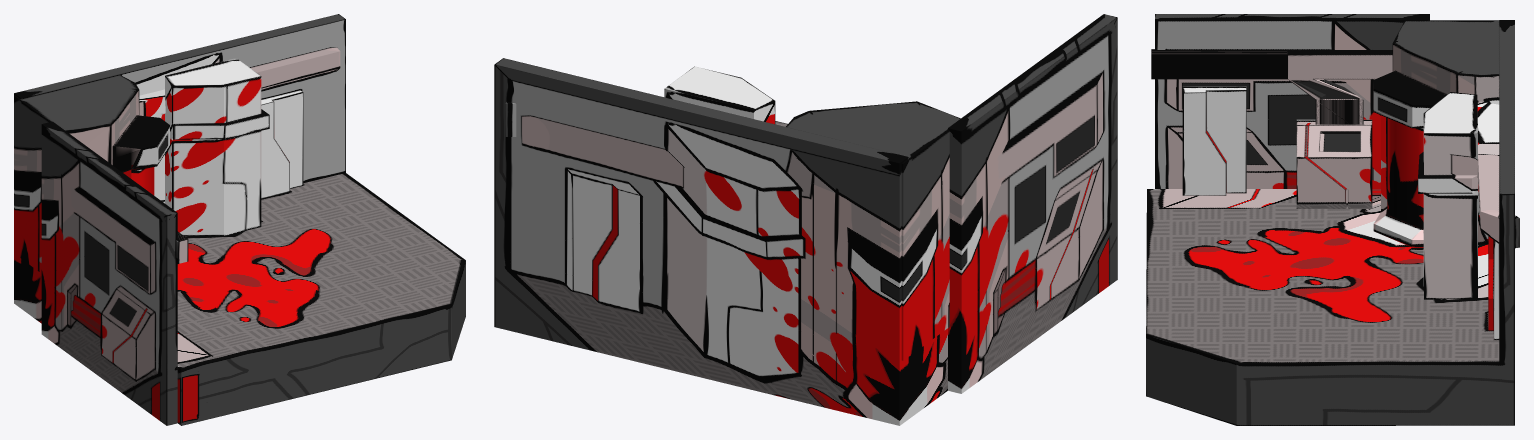
The model's file is riin2.fbx.
The picture shows the model from 3 angles, left to right: view 1: azimuth 30°, elevation 25°; view 2: azimuth 150°, elevation 25°; view 3: azimuth 270°, elevation 25°; orthographic projection. The views are drawn at different scales.
Parts seen in each view (by area): view 1: walls, wardrobe, door2, capsule; view 2: walls, wardrobe; view 3: walls, wardrobe, capsule, door1, console, door2.
Part boxes in pixels (x1=…): walls: x1=14, y1=14, x2=465, y2=425; wardrobe: x1=165, y1=58, x2=269, y2=236; door2: x1=261, y1=90, x2=303, y2=198; capsule: x1=112, y1=115, x2=169, y2=195; walls: x1=494, y1=14, x2=1117, y2=425; wardrobe: x1=664, y1=66, x2=775, y2=124; walls: x1=1146, y1=14, x2=1519, y2=425; wardrobe: x1=1418, y1=92, x2=1477, y2=299; capsule: x1=1373, y1=70, x2=1446, y2=247; door1: x1=1182, y1=86, x2=1246, y2=195; console: x1=1296, y1=119, x2=1372, y2=208; door2: x1=1488, y1=236, x2=1499, y2=338.
Size of the model in its own units: 621 by 371 by 544.
